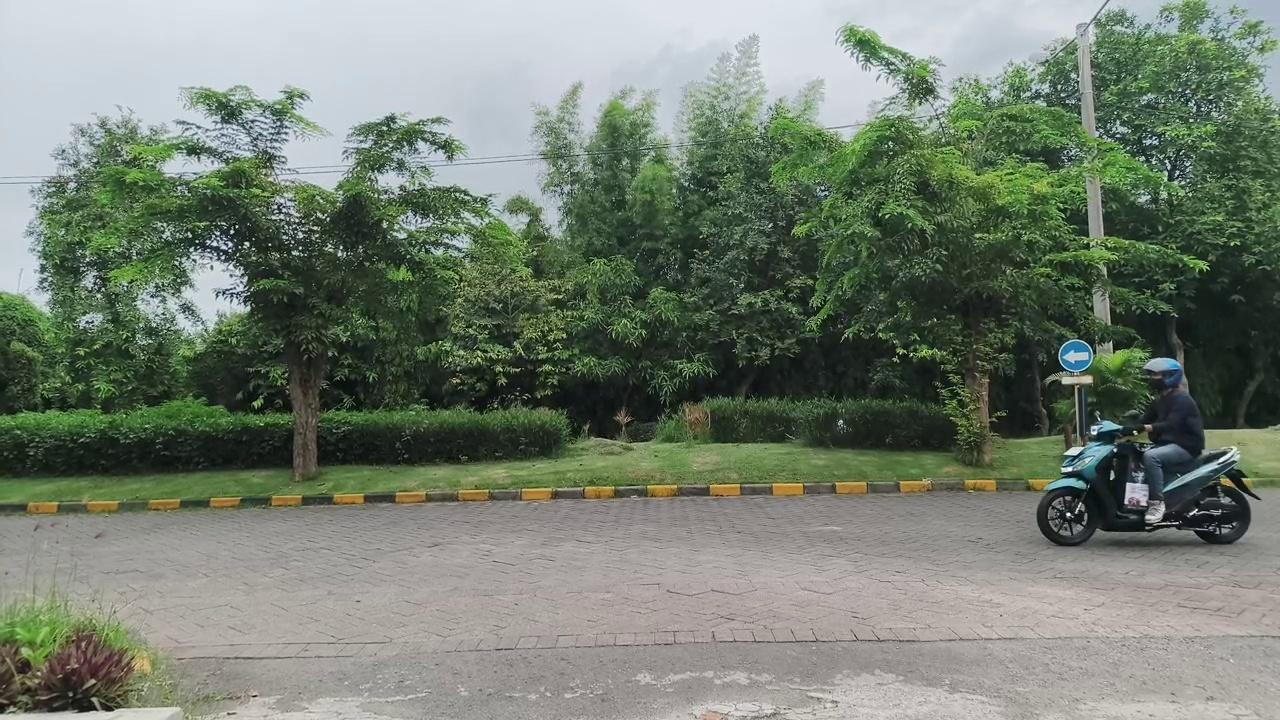Helmet: (1134, 358, 1204, 523)
Motor: (1038, 418, 1259, 545)
